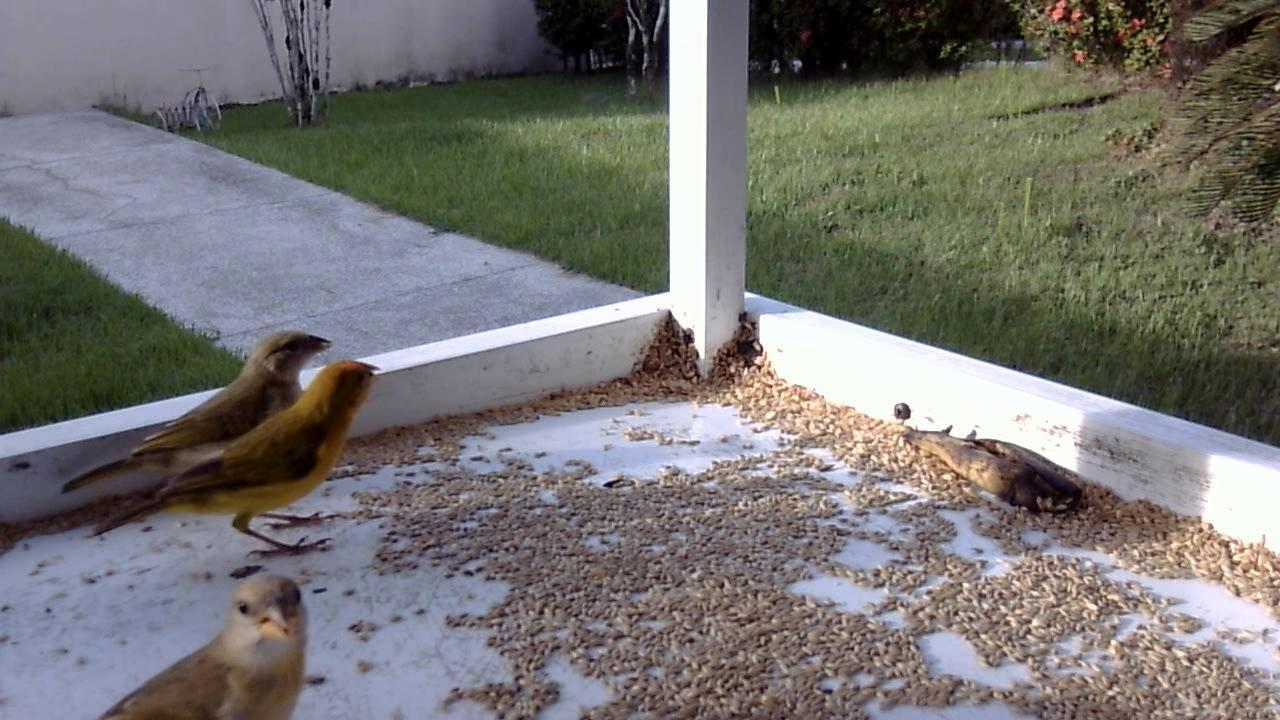canario_do_amazonas: (98, 356, 388, 567), (57, 328, 336, 530), (78, 564, 312, 720)
